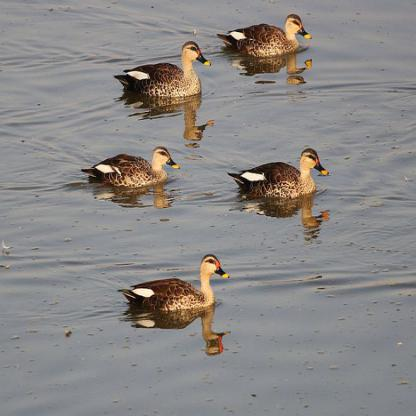Burung: (117, 254, 229, 310)
